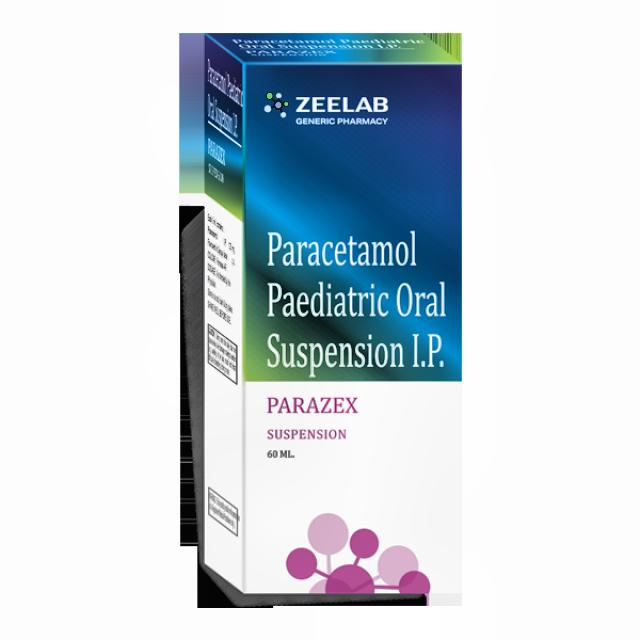Paracetamol: (249, 220, 455, 403)
